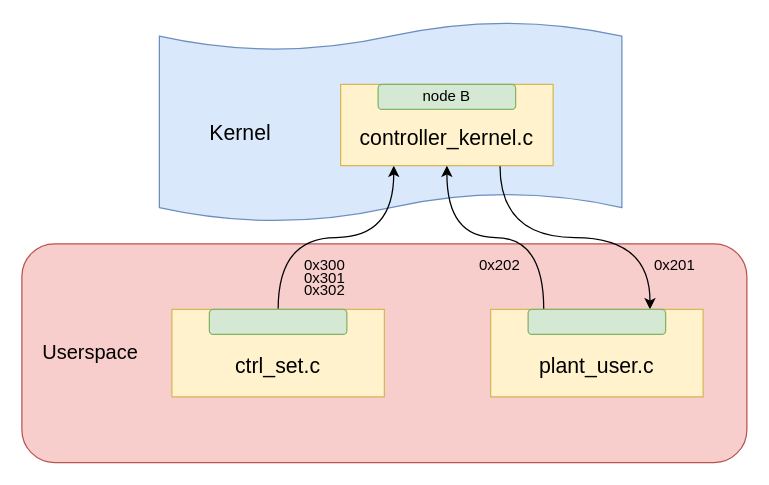
The diagram is 769 pixels wide and 485 high, and some of its shapes have lost their labels. The shapes that lost their labels are listed below. From the top down, each one's centre as x and y in pixels, then its label:
At (277,321): "node A".
At (596,321): "node C".
